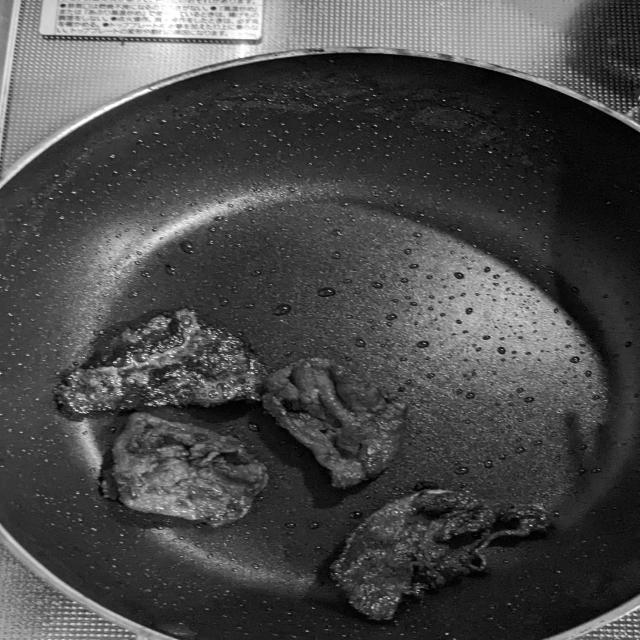overcooked beef,: (321, 479, 569, 628), (53, 302, 281, 423)
overcooked pork: (251, 350, 422, 494), (93, 405, 273, 534)
